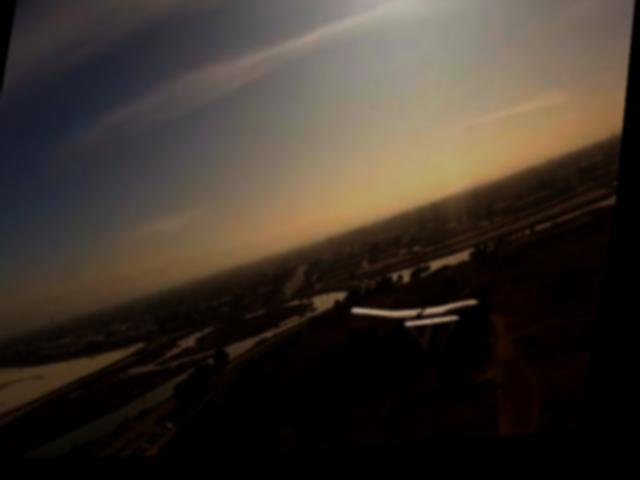uav: (345, 288, 495, 376)
